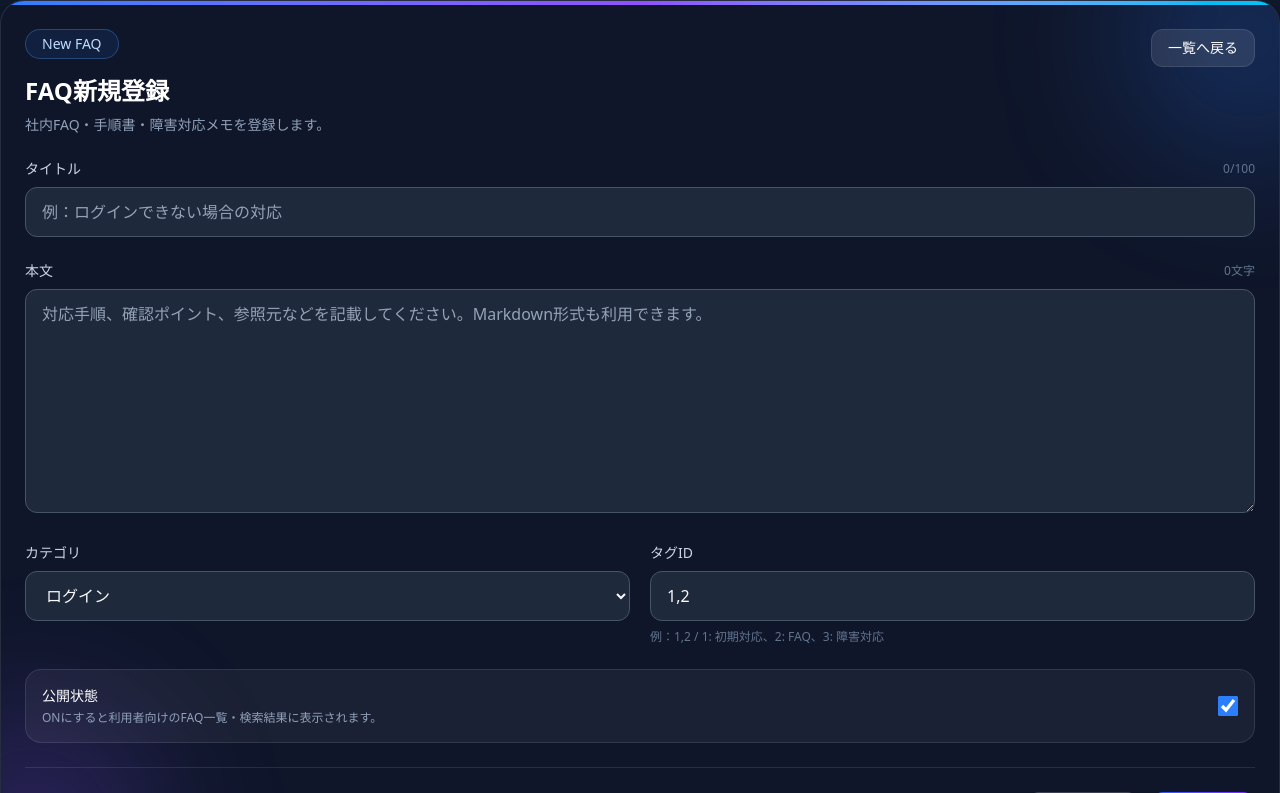
it: NewFaqPage › 本文入力時に文字数が更新される
Expected: the text "0文字" is shown, 1224,263 -> 1255,279
In the text box with placeholder "対応手順、確認ポイント、参照元などを記載してください。Markdown形式も利用できます。": [640, 401] box 25,289 -> 1255,513, type "本文テスト"
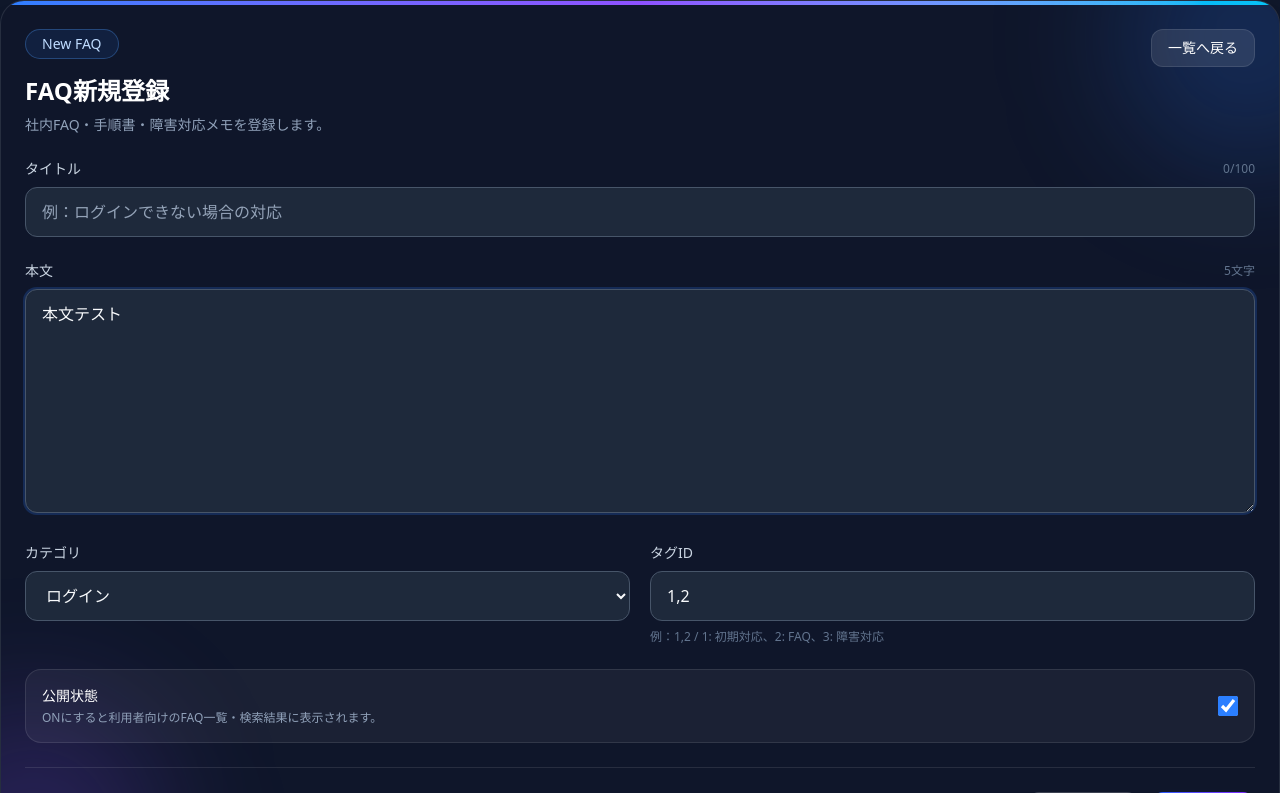
Expected: the text "5文字" is shown, 1224,263 -> 1255,279
